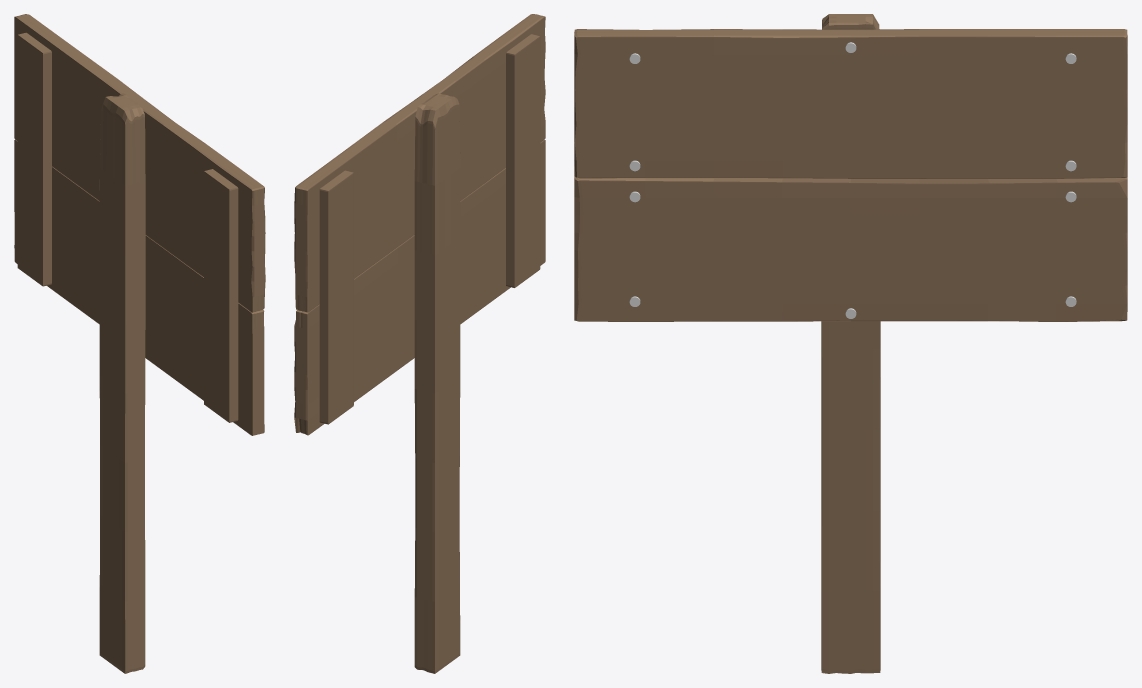
File: sign.fbx
3 renders of one model, left to right at view 1: azimuth 30°, elevation 25°; view 2: azimuth 150°, elevation 25°; view 3: azimuth 270°, elevation 25°, orthographic. The views are drawn at different scales.
Parts seen in each view (by area): view 1: Cube.001, Cube.002, Cube.003, Cube.004; view 2: Cube.001, Cube.002, Cube.003, Cube.004; view 3: Cube.001, Cube.002.
Boxes of the visible parts, left/top/right/bottom form: Cube.001: left=14, top=14, right=265, bottom=435; Cube.002: left=99, top=93, right=145, bottom=673; Cube.003: left=204, top=169, right=238, bottom=422; Cube.004: left=17, top=32, right=51, bottom=286; Cube.001: left=294, top=14, right=545, bottom=435; Cube.002: left=414, top=93, right=460, bottom=673; Cube.003: left=506, top=34, right=540, bottom=287; Cube.004: left=319, top=170, right=353, bottom=424; Cube.001: left=574, top=29, right=1127, bottom=321; Cube.002: left=821, top=14, right=880, bottom=673.
Size of the model in its own units: 43.66 by 599 by 462.
